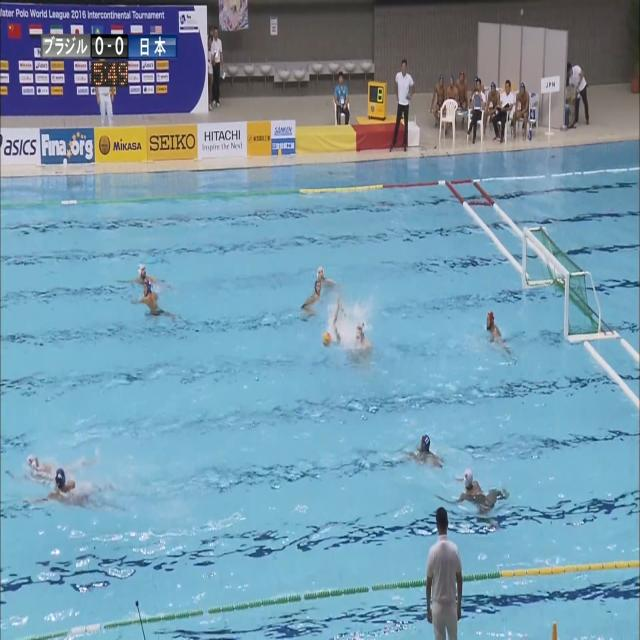ball: (322, 333, 331, 347)
